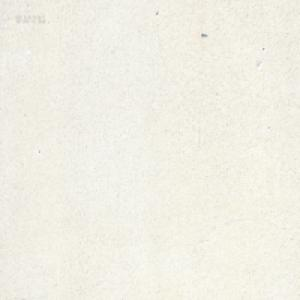Nail: (201, 31, 208, 37)
